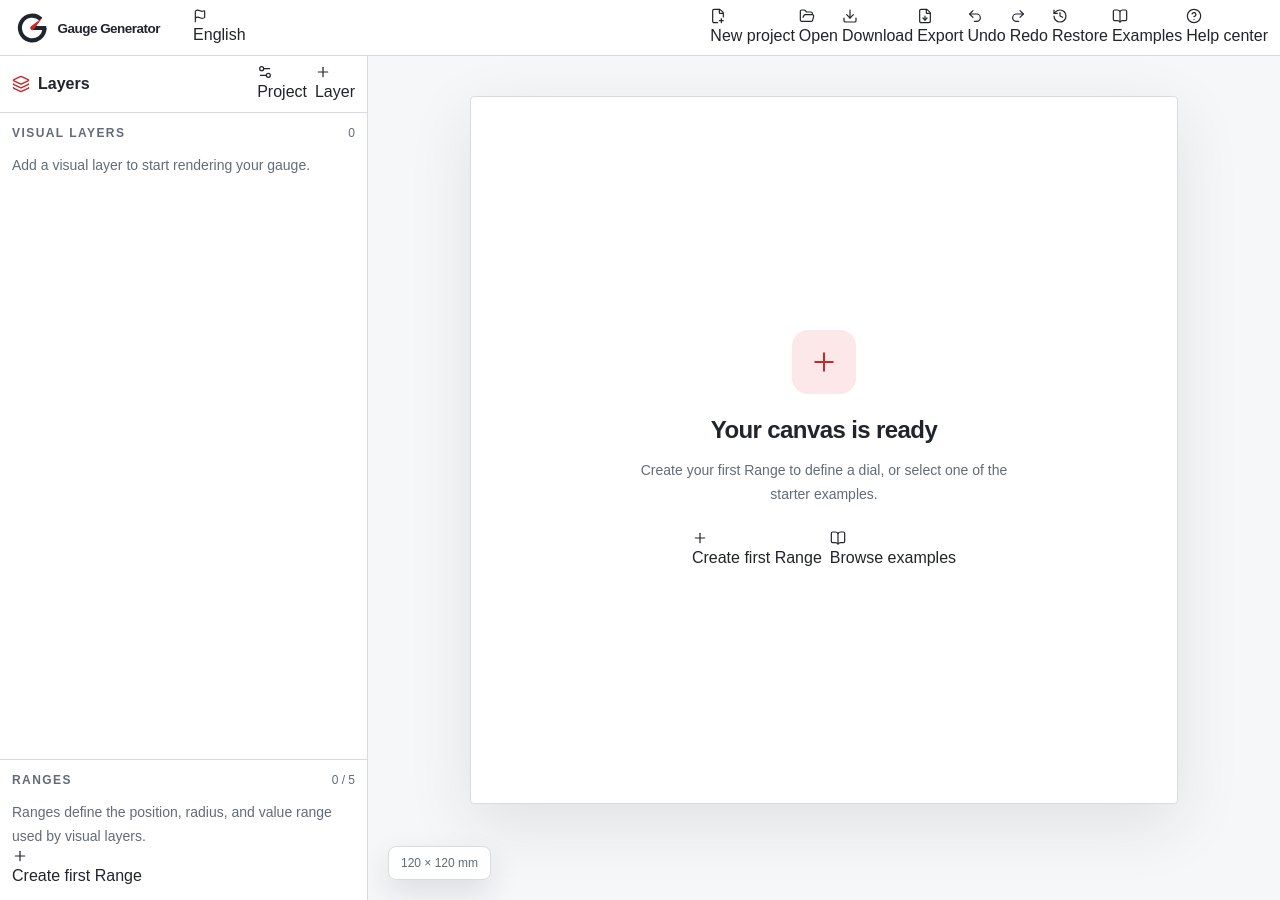
it: EditorShell project file flow › opens a validated project atomically and leaves an invalid file without changes
The image size is (1280, 900).
Click the button "Open". click: (818,28)
box: [799, 8, 838, 48]
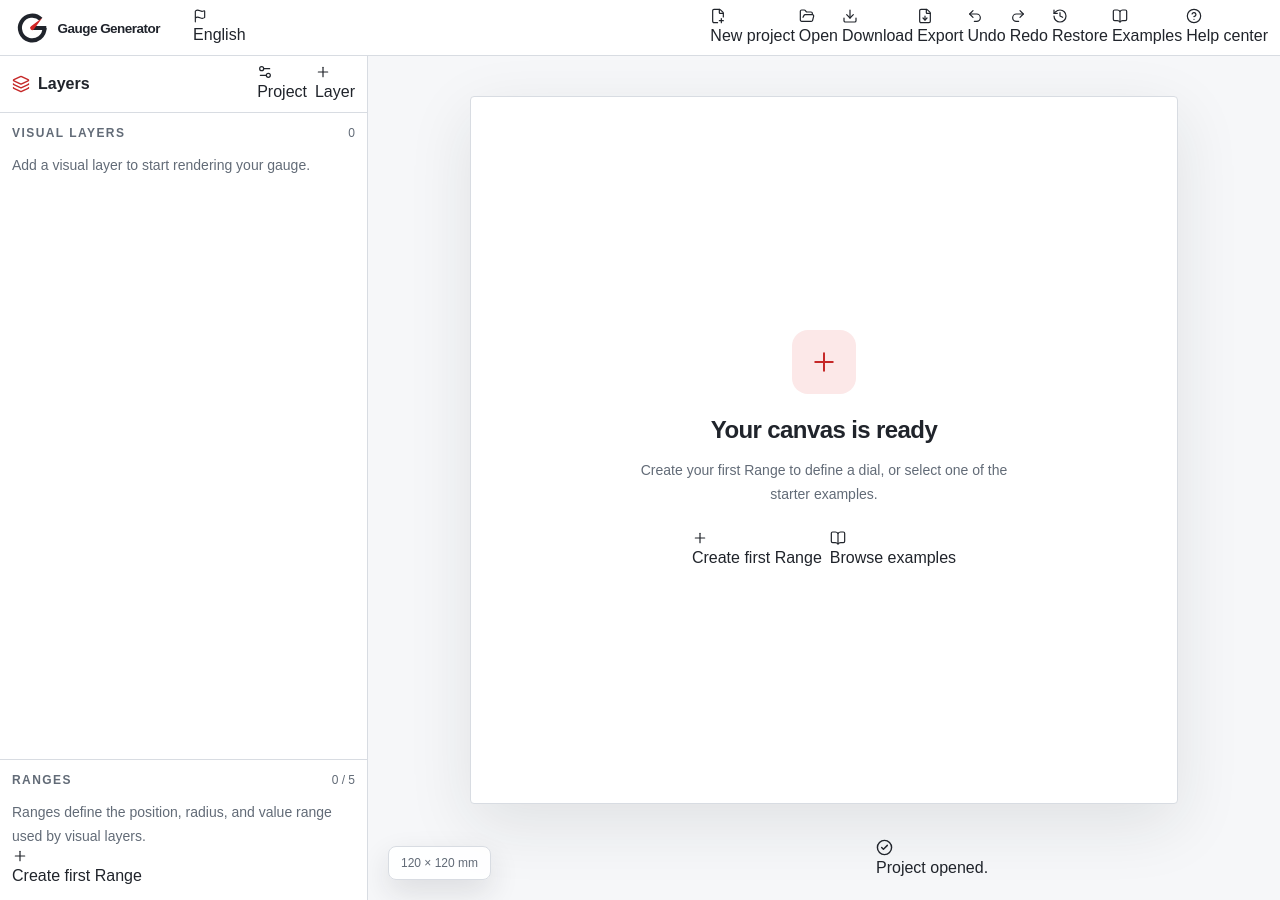
Click the button "Open". click: (818,28)
box: [799, 8, 838, 48]
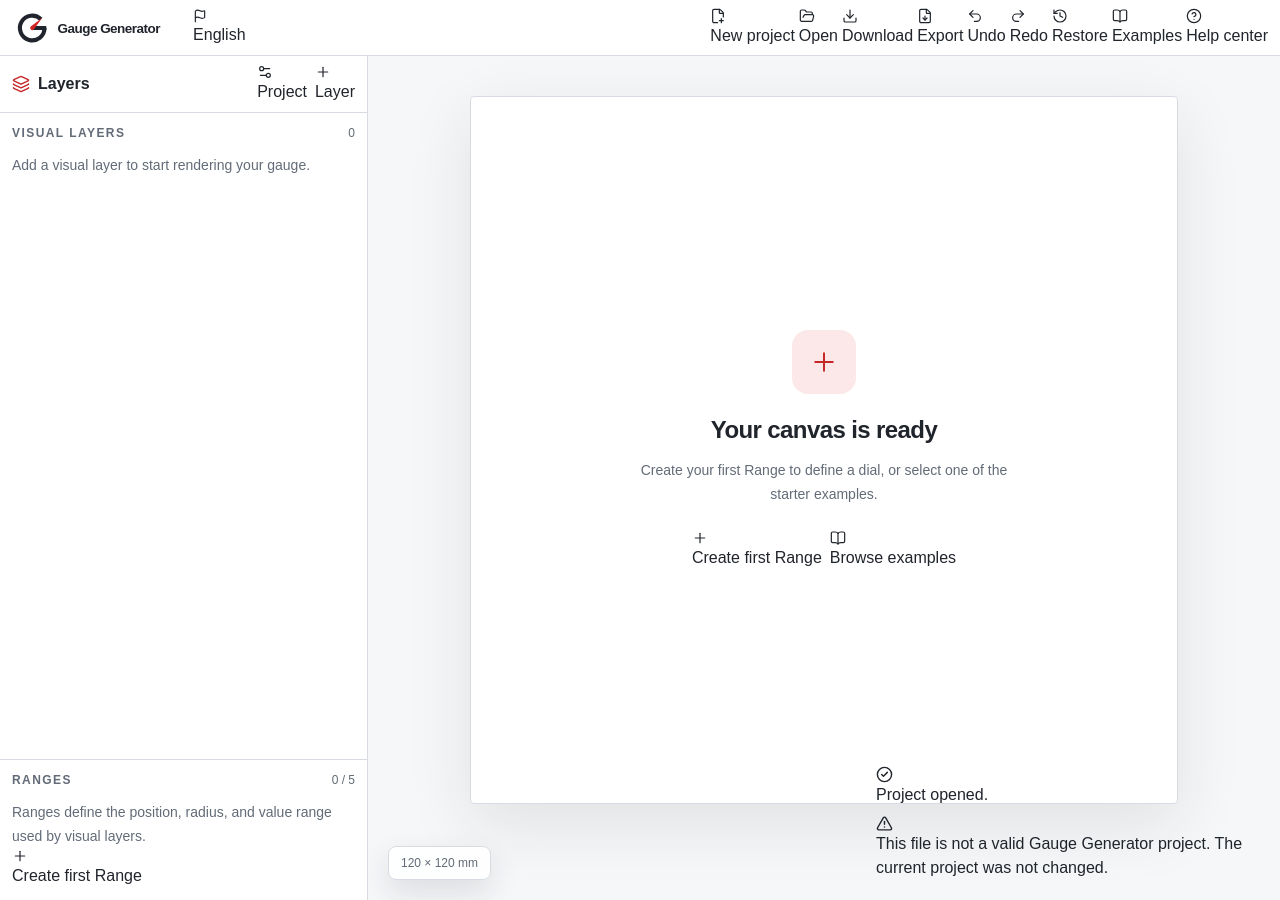
Result: the text "not a valid Gauge Generator project" is shown at [876, 835, 1242, 876]
